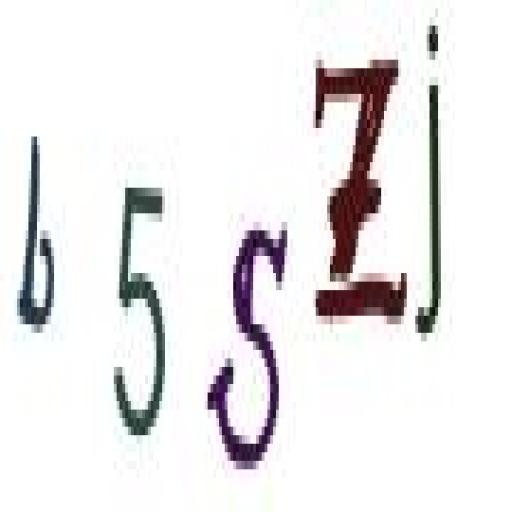5: (102, 162, 179, 456)
S: (206, 188, 292, 487)
Z: (304, 40, 414, 356)
b: (13, 116, 59, 360)
j: (415, 15, 446, 368)
